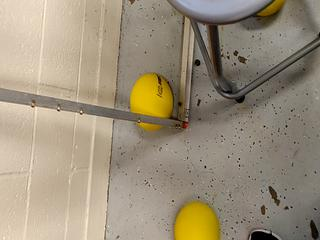power_cell: (127, 64, 180, 132), (174, 196, 219, 240)
